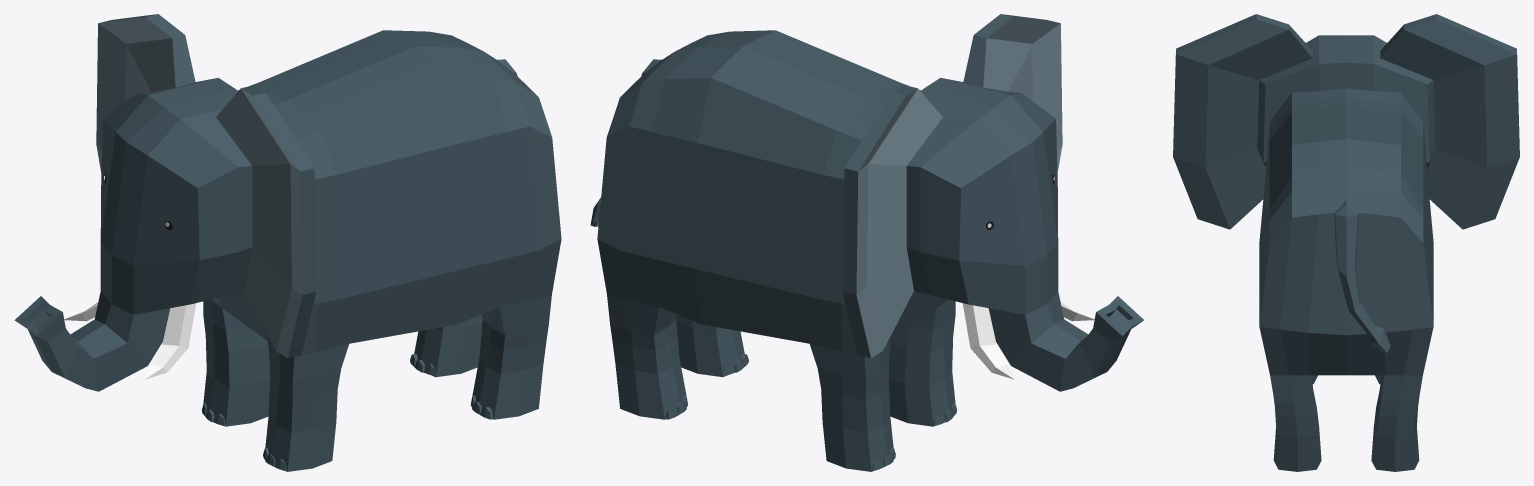
Rendered from Elephant_01.obj.
The picture shows the model from 3 angles, left to right: view 1: azimuth 30°, elevation 25°; view 2: azimuth 150°, elevation 25°; view 3: azimuth 270°, elevation 25°; orthographic projection. The views are drawn at different scales.
Parts seen in each view (by area): view 1: Cube.029_Cube.028; view 2: Cube.029_Cube.028; view 3: Cube.029_Cube.028.
Boxes of the visible parts, x1,y1,x2,y2 form: Cube.029_Cube.028: (14, 14, 561, 471); Cube.029_Cube.028: (590, 14, 1143, 471); Cube.029_Cube.028: (1173, 14, 1519, 471).
Bounding box in the file's own units: 265 × 192 × 181.
